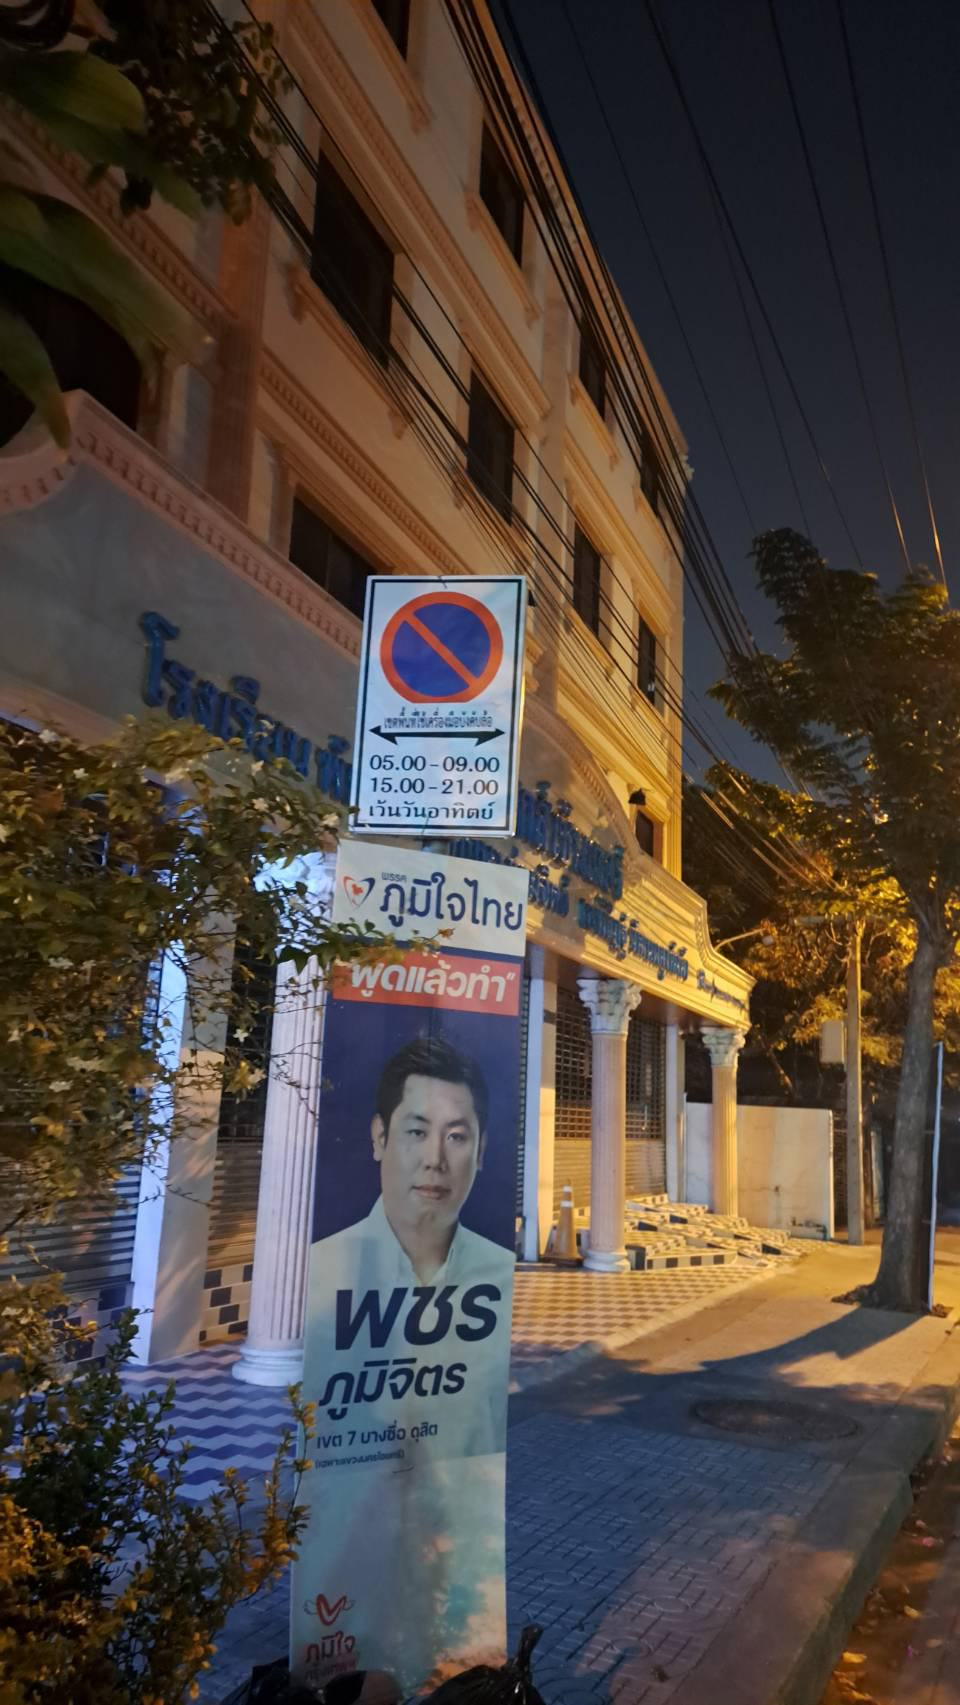Banner: (309, 830, 532, 1470)
